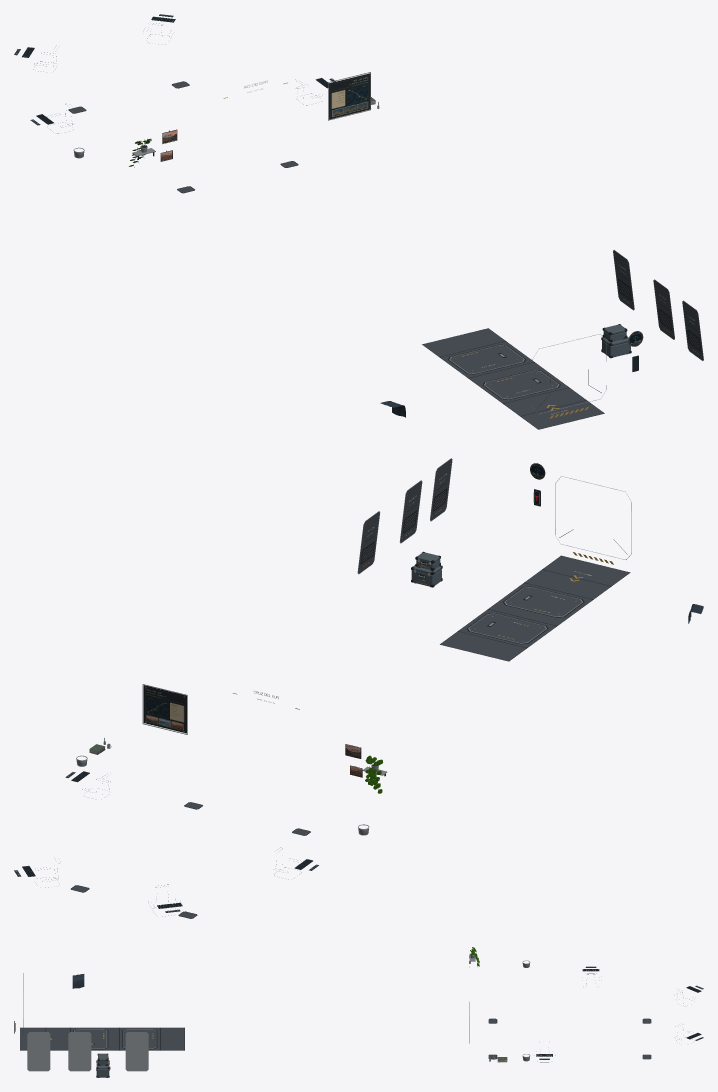
Rendered from cruz-del-sur-refined-details.glb.
3 views of the same model, one above another, from view 1: azimuth 30°, elevation 25°; view 2: azimuth 150°, elevation 25°; view 3: azimuth 270°, elevation 25° (orthographic). The views are drawn at different scales.
Parts seen in each view (by area): view 1: REFINED_arrival_static_CDS DETAIL_Graphite deck - restrained, REFINED_arrival_static_CDS DETAIL_Pressure panel warm graphi, REFINED_arrival_static_CDS DETAIL_Recesses and gaskets, REFINED_bridge_static_CDS POLISH_Recess expedition board, REFINED_arrival_static_CDS DETAIL_Brushed steel rebates, REFINED_arrival_static_CDS POLISH_Scientific transport blue ; view 2: REFINED_arrival_static_CDS DETAIL_Graphite deck - restrained, REFINED_arrival_static_CDS DETAIL_Pressure panel warm graphi, REFINED_arrival_static_CDS DETAIL_Recesses and gaskets, REFINED_bridge_static_CDS POLISH_Recess expedition board, REFINED_arrival_static_CDS DETAIL_Brushed steel rebates, REFINED_arrival_static_CDS POLISH_Scientific transport blue ; view 3: REFINED_arrival_static_CDS DETAIL_Brushed steel rebates, REFINED_arrival_static_CDS DETAIL_Graphite deck - restrained, REFINED_arrival_static_CDS POLISH_Scientific transport blue , REFINED_arrival_static_CDS DETAIL_Recesses and gaskets.
Boxes of the visible parts, x1,y1,x2,y2 form: REFINED_arrival_static_CDS DETAIL_Graphite deck - restrained: (423,328,603,429); REFINED_arrival_static_CDS DETAIL_Pressure panel warm graphi: (613,250,703,360); REFINED_arrival_static_CDS DETAIL_Recesses and gaskets: (422,274,700,429); REFINED_bridge_static_CDS POLISH_Recess expedition board: (329,73,370,119); REFINED_arrival_static_CDS DETAIL_Brushed steel rebates: (449,250,703,414); REFINED_arrival_static_CDS POLISH_Scientific transport blue : (602,324,630,357); REFINED_arrival_static_CDS DETAIL_Graphite deck - restrained: (441,556,629,660); REFINED_arrival_static_CDS DETAIL_Pressure panel warm graphi: (358,459,451,573); REFINED_arrival_static_CDS DETAIL_Recesses and gaskets: (360,483,630,661); REFINED_bridge_static_CDS POLISH_Recess expedition board: (143,685,186,733); REFINED_arrival_static_CDS DETAIL_Brushed steel rebates: (357,458,631,643); REFINED_arrival_static_CDS POLISH_Scientific transport blue : (411,552,441,586); REFINED_arrival_static_CDS DETAIL_Brushed steel rebates: (23,973,156,1071); REFINED_arrival_static_CDS DETAIL_Graphite deck - restrained: (20,1027,184,1050); REFINED_arrival_static_CDS POLISH_Scientific transport blue : (96,1053,109,1077); REFINED_arrival_static_CDS DETAIL_Recesses and gaskets: (20,1027,184,1050).
Bounding box in the file's own units: 8.64 × 3.07 × 25.31.
Materials: 31 (6 with a texture image).
